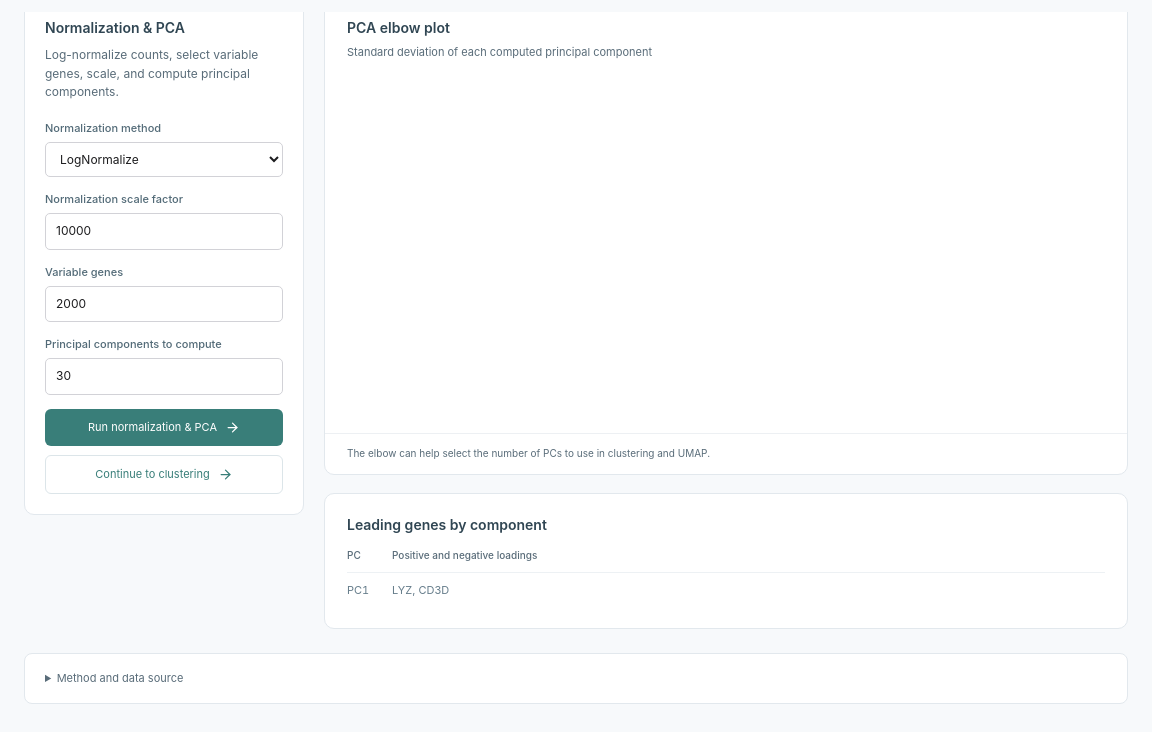
Test: public analysis demo › keeps incomplete decimal edits visible, blocks blank values, and submits parsed numbers
(page scrolled)
Click the button "Continue to clustering" at [164, 474], box x1=45 y1=455 x2=283 y2=494
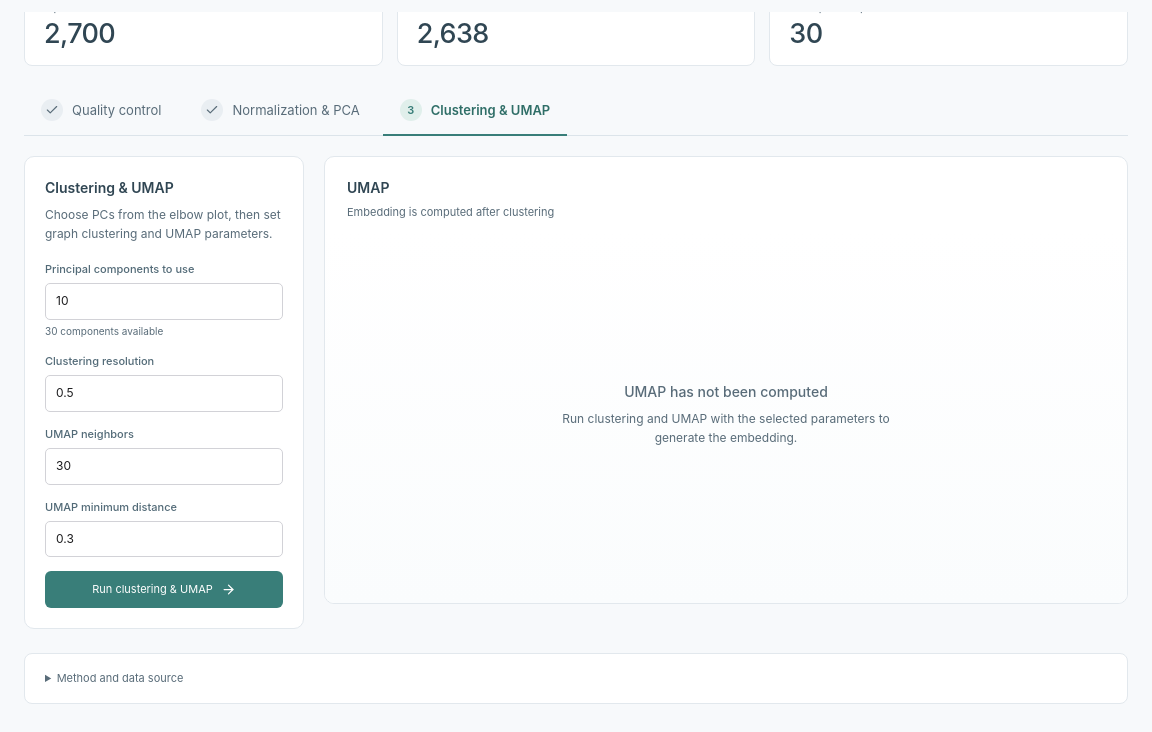
Replace the text in the field labelled "Clustering resolution" with "0." at [164, 394], box x1=45 y1=376 x2=283 y2=412
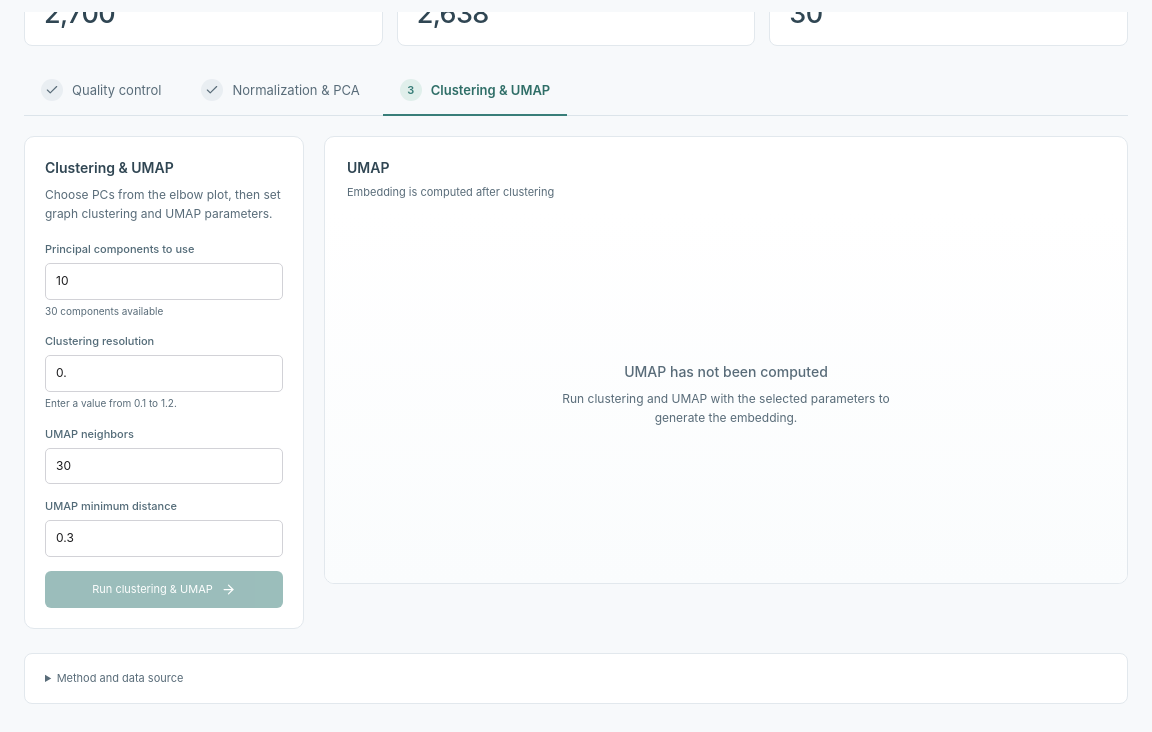
Expected: the button "Run clustering & UMAP" is disabled, x1=45 y1=571 x2=283 y2=608
Replace the text in the field labelled "Clustering resolution" with "0.8" at [164, 374], box x1=45 y1=356 x2=283 y2=392
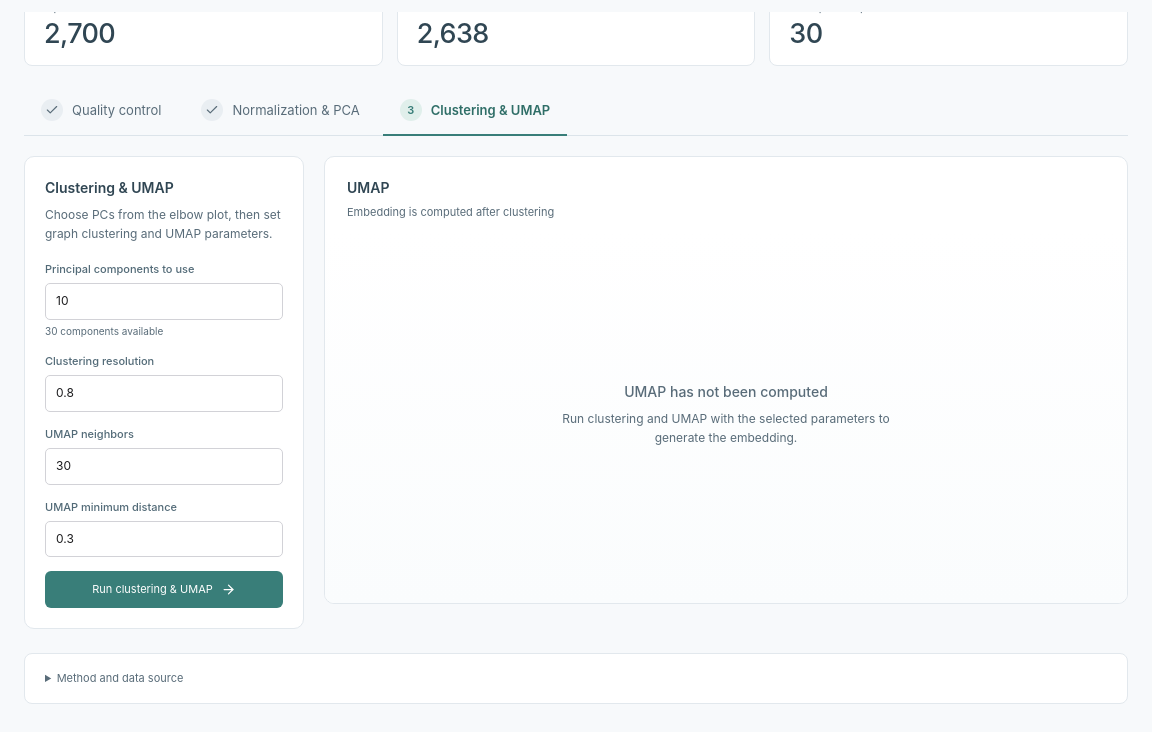
Clear the field labelled "UMAP minimum distance" at [164, 539], box x1=45 y1=521 x2=283 y2=557
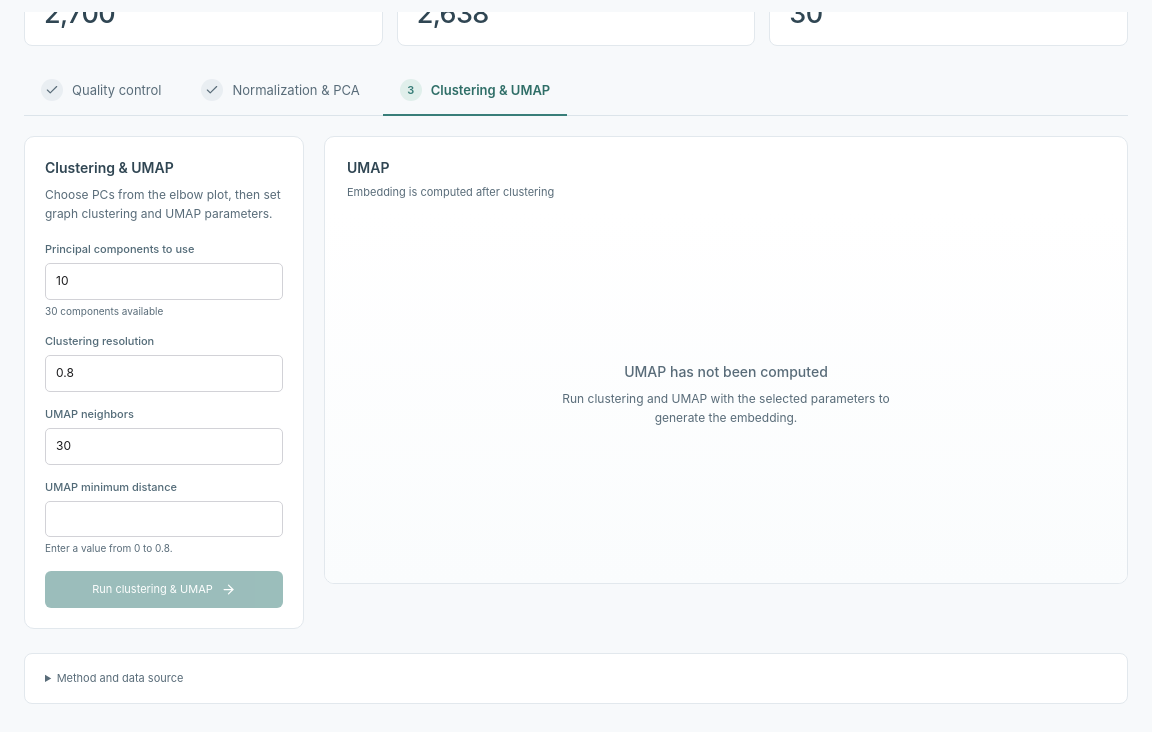
Expected: the button "Run clustering & UMAP" is disabled, x1=45 y1=571 x2=283 y2=608
Type "0.4" into the field labelled "UMAP minimum distance" at [164, 519], box x1=45 y1=501 x2=283 y2=537
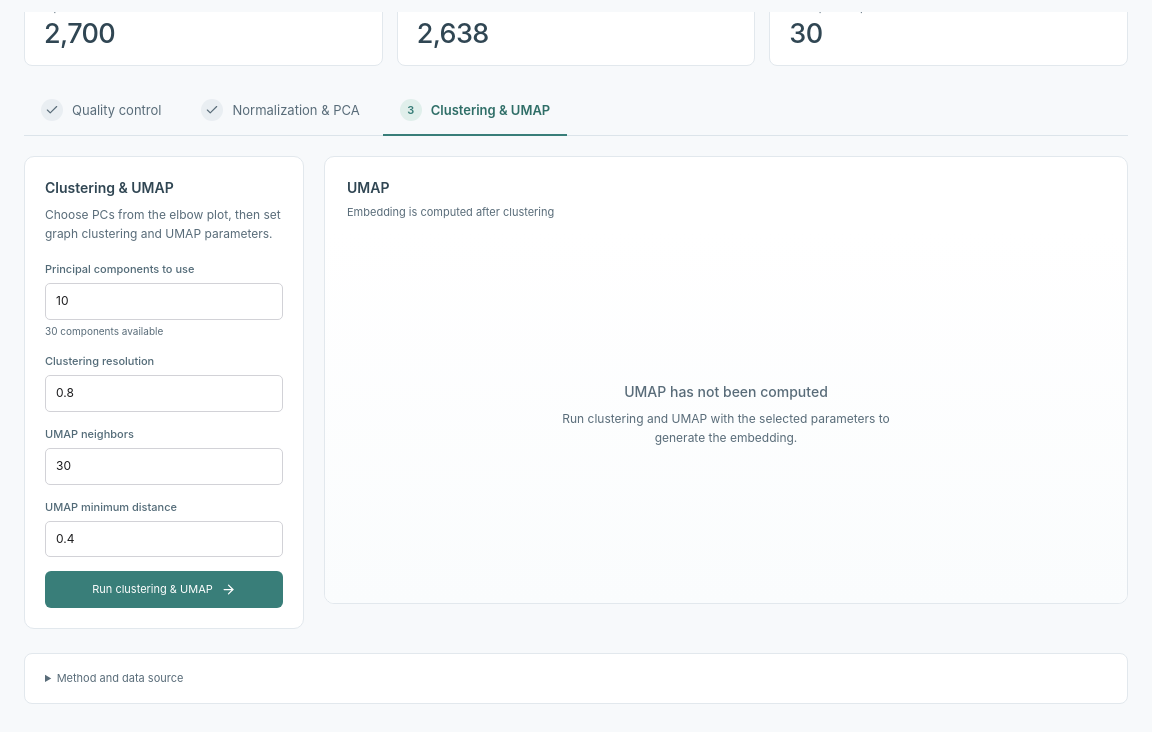
Click the button "Run clustering & UMAP" at [164, 590], box x1=45 y1=571 x2=283 y2=608
(page scrolled)
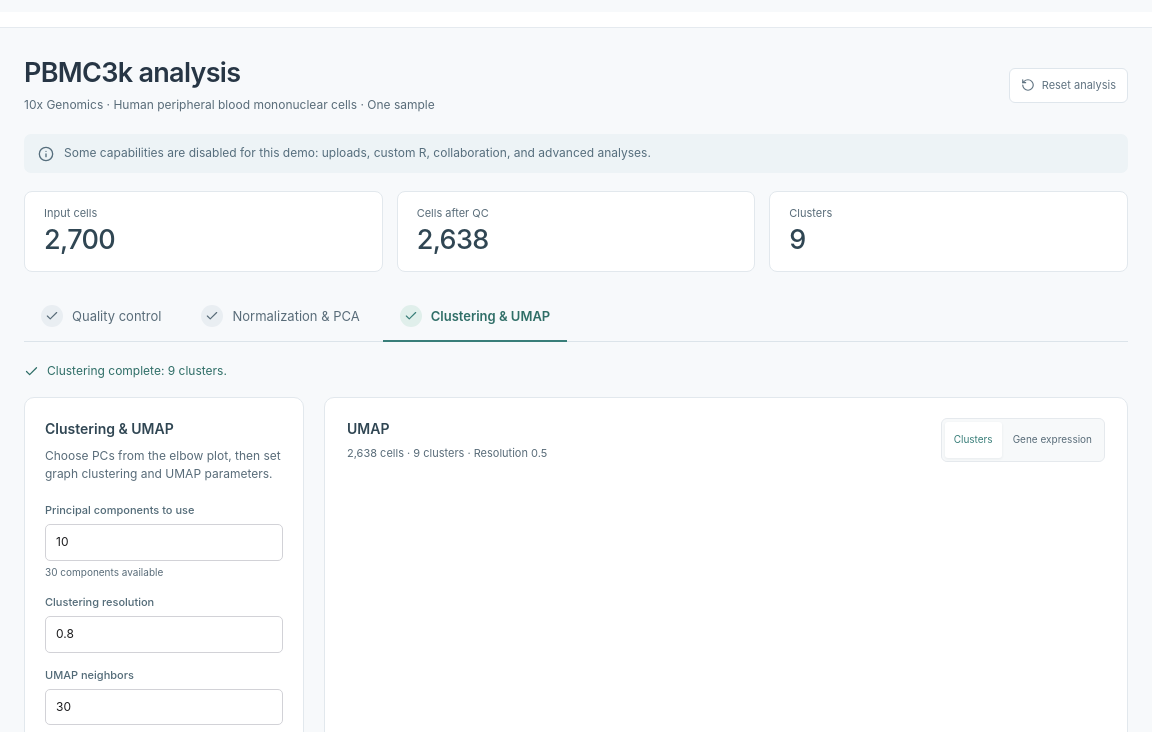
Expected: the text "Clustering complete: 9 clusters." is shown, x1=24 y1=363 x2=227 y2=379
